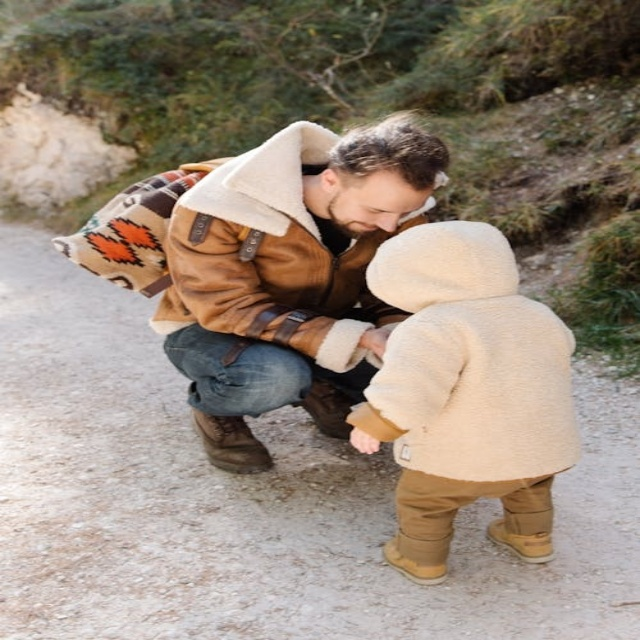Sin_gafas: (356, 197, 420, 219)
Sin_guantes: (356, 324, 392, 360), (348, 424, 384, 454)
Sin_mascara: (338, 217, 388, 238)
